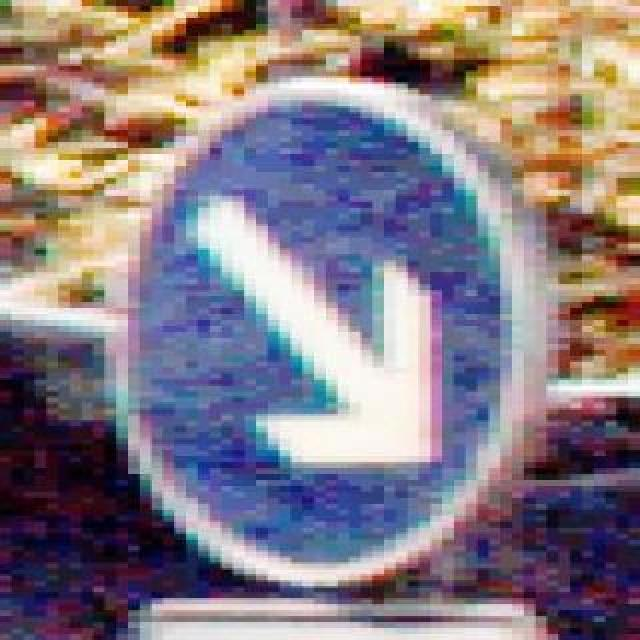keep right: (82, 72, 524, 582)
